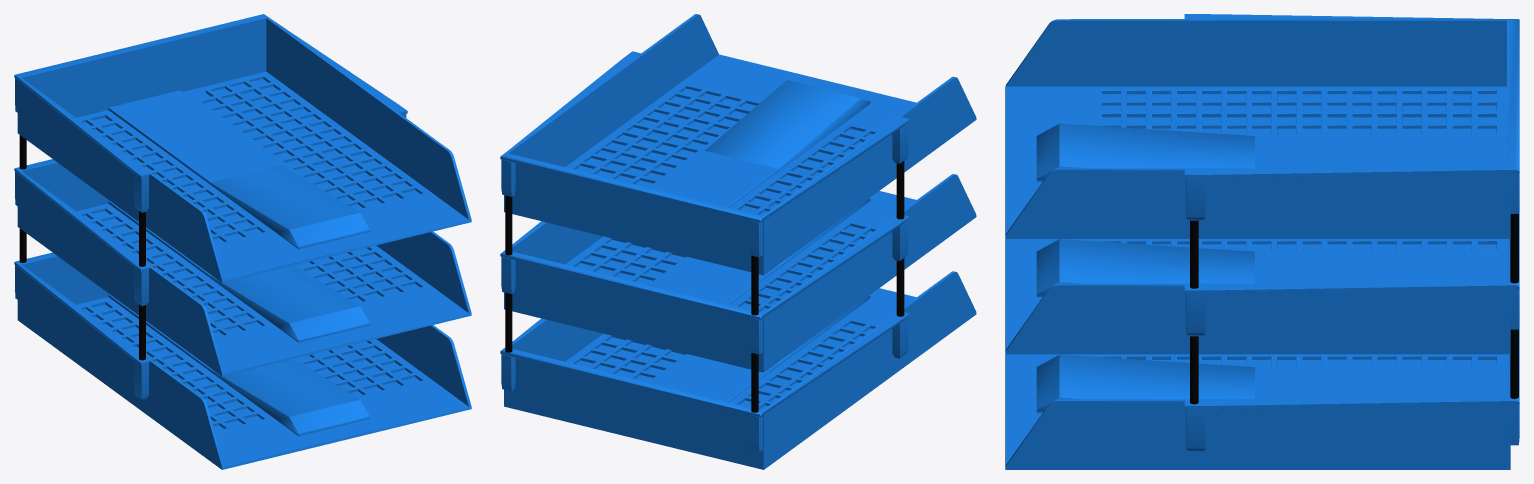
The model's file is uploads-files-304850-Paper+Tray+Fbx.fbx.
3 renders of one model, left to right at view 1: azimuth 30°, elevation 25°; view 2: azimuth 150°, elevation 25°; view 3: azimuth 270°, elevation 25°, orthographic. The views are drawn at different scales.
Parts seen in each view (by area): view 1: Body, Body_3, Body_2, Poles_2, Poles_3; view 2: Body, Body_3, Body_2, Poles_2, Poles_3; view 3: Body, Body_3, Body_2, Poles_2, Poles_3.
Boxes of the visible parts, bbox=[...] form: Body: bbox=[14, 14, 471, 282]; Body_3: bbox=[14, 252, 471, 469]; Body_2: bbox=[14, 159, 471, 376]; Poles_2: bbox=[19, 135, 145, 266]; Poles_3: bbox=[19, 228, 145, 360]; Body: bbox=[500, 14, 976, 275]; Body_3: bbox=[500, 271, 976, 469]; Body_2: bbox=[500, 174, 976, 372]; Poles_2: bbox=[505, 161, 904, 315]; Poles_3: bbox=[505, 258, 904, 412]; Body: bbox=[1005, 14, 1519, 238]; Body_3: bbox=[1005, 323, 1519, 469]; Body_2: bbox=[1005, 208, 1519, 354]; Poles_2: bbox=[1190, 214, 1518, 288]; Poles_3: bbox=[1190, 329, 1518, 404].
Size of the model in its own units: 26.18 by 22.8 by 35.37.
